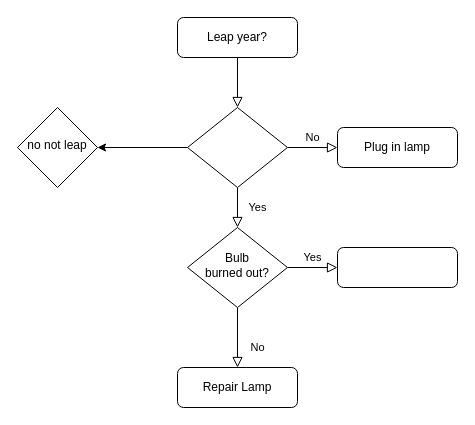
Some shapes in this 475 by 425 pixel diagram are drawn without their labels. The centre of each missing label's shape, as x and y in pixels:
divide by 4?: the point at 237,147
Replace Bulb: the point at 397,267
